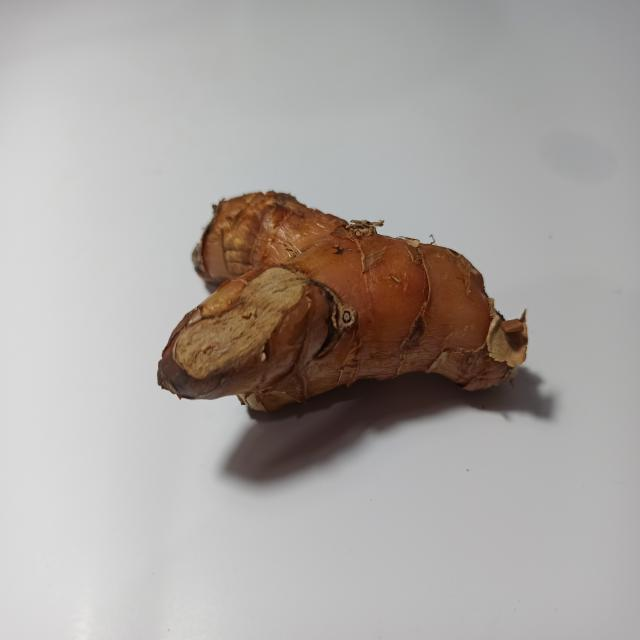ginger: (169, 188, 536, 422)
